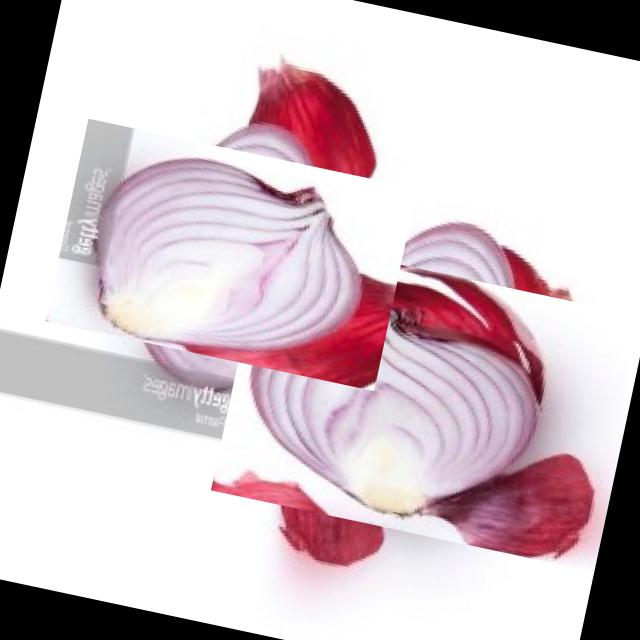Onion: (237, 208, 630, 602), (69, 92, 392, 416)
